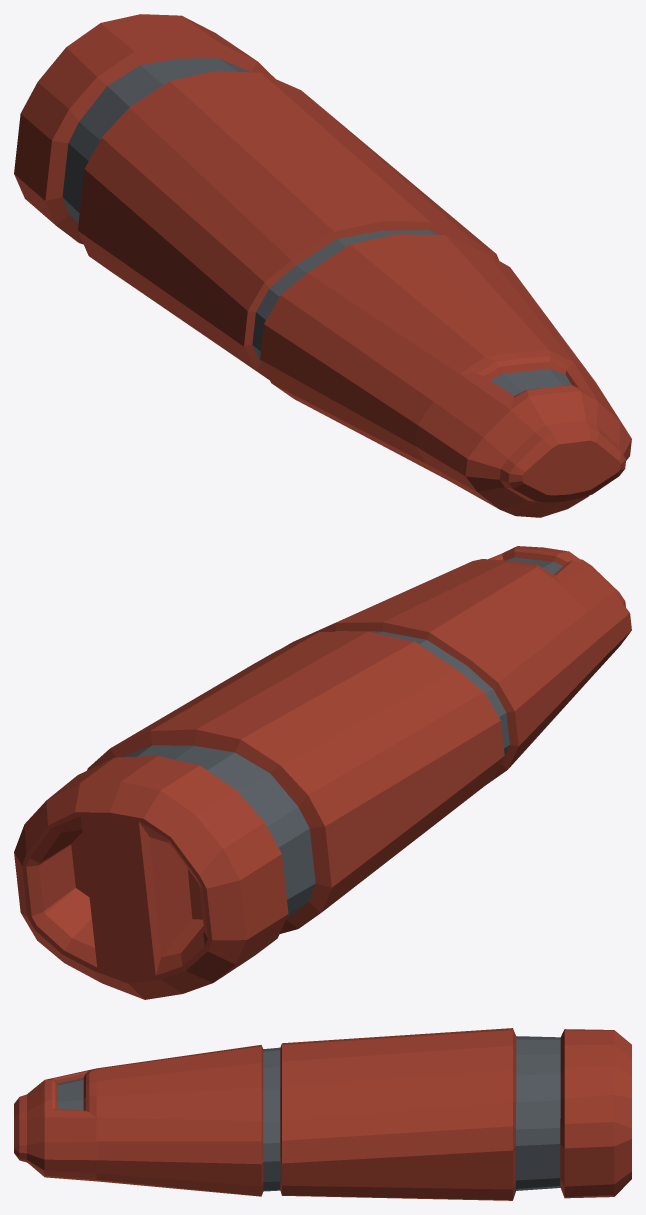
The model's file is Fighter_02_Thruster_Red.fbx.
3 views of the same model, one above another, from view 1: azimuth 30°, elevation 25°; view 2: azimuth 150°, elevation 25°; view 3: azimuth 270°, elevation 25° (orthographic). The views are drawn at different scales.
Visible parts, largest first — view 1: Fighter_02_Thruster_Red; view 2: Fighter_02_Thruster_Red; view 3: Fighter_02_Thruster_Red.
Part boxes in pixels (<box>): Fighter_02_Thruster_Red: <box>14,14,631,517</box>; Fighter_02_Thruster_Red: <box>14,546,631,999</box>; Fighter_02_Thruster_Red: <box>14,1028,631,1200</box>.
Size of the model in its own units: 156 by 122 by 467.
2 materials, 2 textured.
